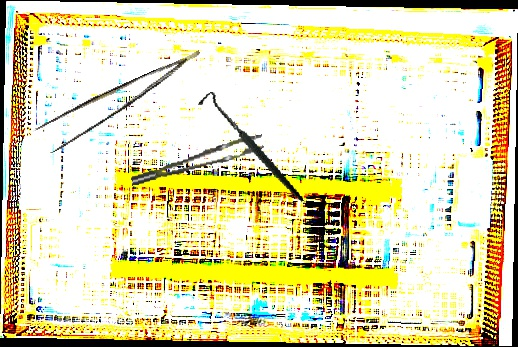Hook Surgical: (196, 76, 304, 221)
Tissue Forceps: (29, 50, 213, 157), (127, 134, 267, 186)
